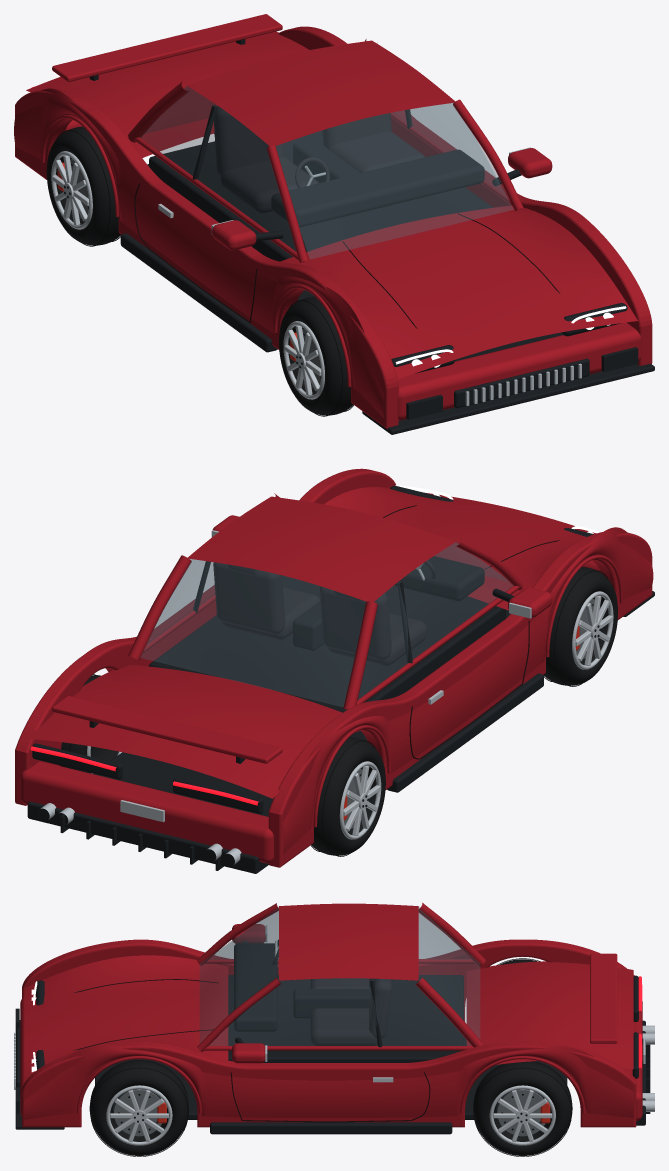
File: velocity-gt-detailed-v3.glb
3 views of the same model, one above another, from view 1: azimuth 30°, elevation 25°; view 2: azimuth 150°, elevation 25°; view 3: azimuth 270°, elevation 25° (orthographic). The views are drawn at different scales.
Visible parts, largest first — view 1: Sunset_Red_Clearcoat, Smoked_Automotive_Glass, Graphite_Trim, Charcoal_Leather, Performance_Rubber (×2), Forged_Aluminium (×3), Panel_Shut_Lines, LED_Daytime_Lights; view 2: Sunset_Red_Clearcoat, Graphite_Trim, Smoked_Automotive_Glass, Charcoal_Leather, Performance_Rubber (×3), Forged_Aluminium (×3), LED_Rear_Lights, Panel_Shut_Lines; view 3: Sunset_Red_Clearcoat, Smoked_Automotive_Glass, Graphite_Trim, Performance_Rubber (×2), Forged_Aluminium (×3), Charcoal_Leather, Ventilated_Brake_Disc (×2), Tire_Grooves (×2), Panel_Shut_Lines.
Boxes of the visible parts, x1,y1,x2,y2 form: Sunset_Red_Clearcoat: (14, 14, 652, 429); Smoked_Automotive_Glass: (140, 86, 513, 258); Graphite_Trim: (89, 39, 654, 434); Charcoal_Leather: (214, 106, 424, 213); Performance_Rubber (×2): (46, 126, 353, 415); Forged_Aluminium (×3): (51, 147, 581, 405); Panel_Shut_Lines: (134, 183, 560, 328); LED_Daytime_Lights: (395, 306, 626, 367); Sunset_Red_Clearcoat: (15, 468, 653, 867); Graphite_Trim: (27, 485, 654, 873); Smoked_Automotive_Glass: (140, 542, 513, 706); Charcoal_Leather: (213, 560, 435, 665); Performance_Rubber (×3): (60, 567, 617, 855); Forged_Aluminium (×3): (40, 530, 613, 864); LED_Rear_Lights: (30, 746, 258, 805); Panel_Shut_Lines: (383, 505, 559, 759); Sunset_Red_Clearcoat: (20, 902, 642, 1127); Smoked_Automotive_Glass: (200, 906, 479, 1045); Graphite_Trim: (15, 941, 650, 1134); Performance_Rubber (×2): (89, 1061, 572, 1155); Forged_Aluminium (×3): (14, 925, 654, 1145); Charcoal_Leather: (272, 939, 392, 1045); Ventilated_Brake_Disc (×2): (114, 1089, 545, 1136); Tire_Grooves (×2): (90, 1060, 571, 1156); Panel_Shut_Lines: (73, 979, 430, 1122).
Bounding box in the file's own units: 2.26 × 1.35 × 4.68.
